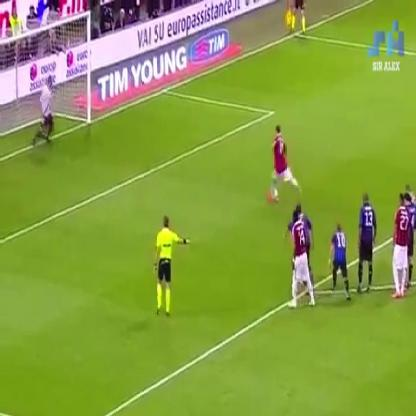penalty kick: (3, 27, 310, 228)
